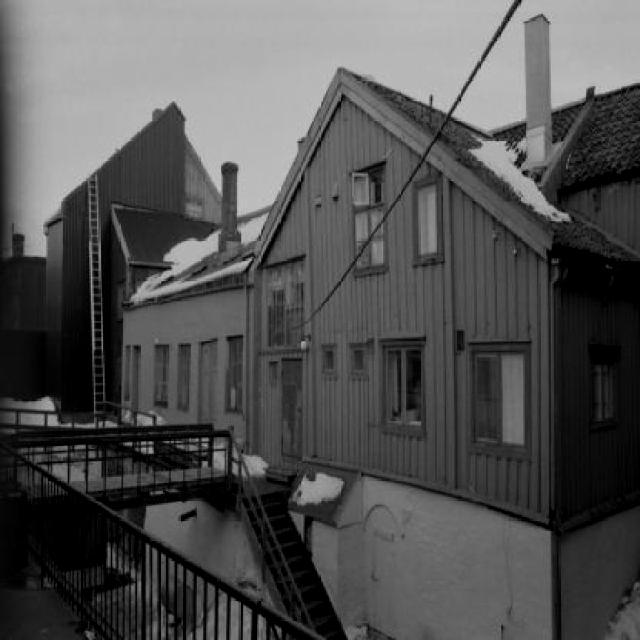stair: (238, 486, 346, 639)
